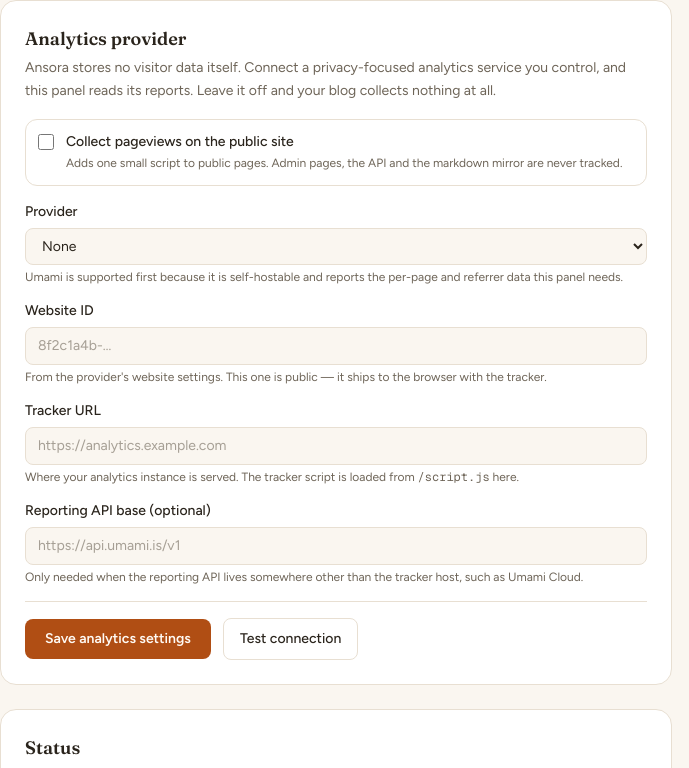
Test: <AnalyticsSetupCard /> › surfaces a save failure instead of silently pretending it worked
Click the button "Save analytics settings" at [118, 639], box [25,619,211,659]
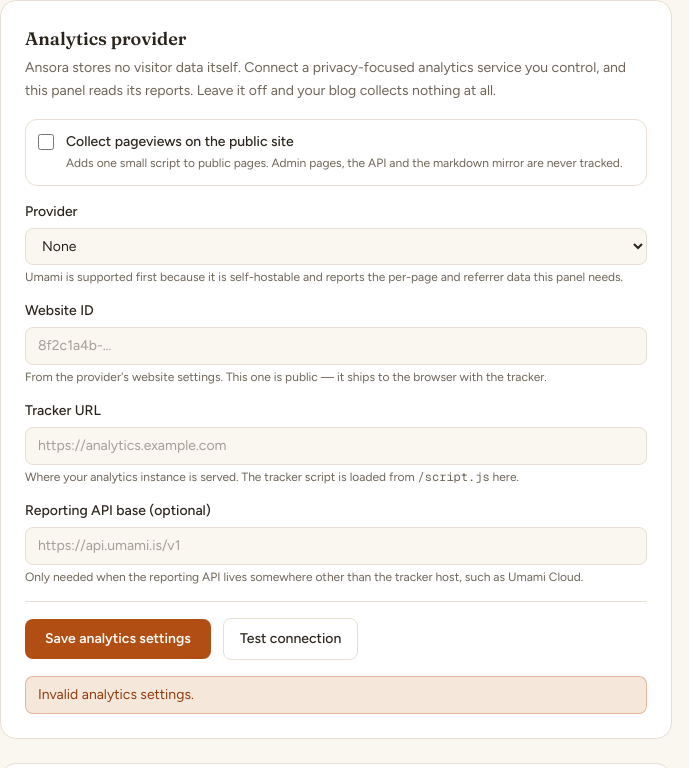
Check: the message "Invalid analytics settings." is shown, box [25,676,647,714]
